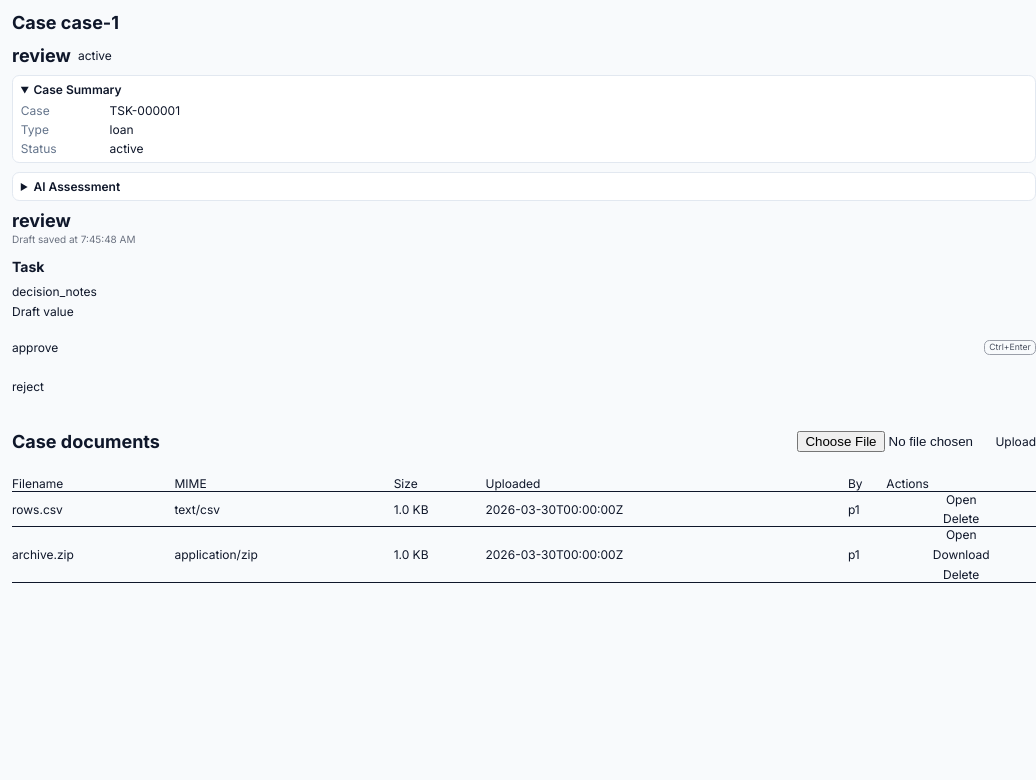
Test: CaseView document panel › renders CSV preview and download button for non-inline types
Click the button "Open" in the row of "rows.csv": (961, 499) [886, 492, 1035, 507]
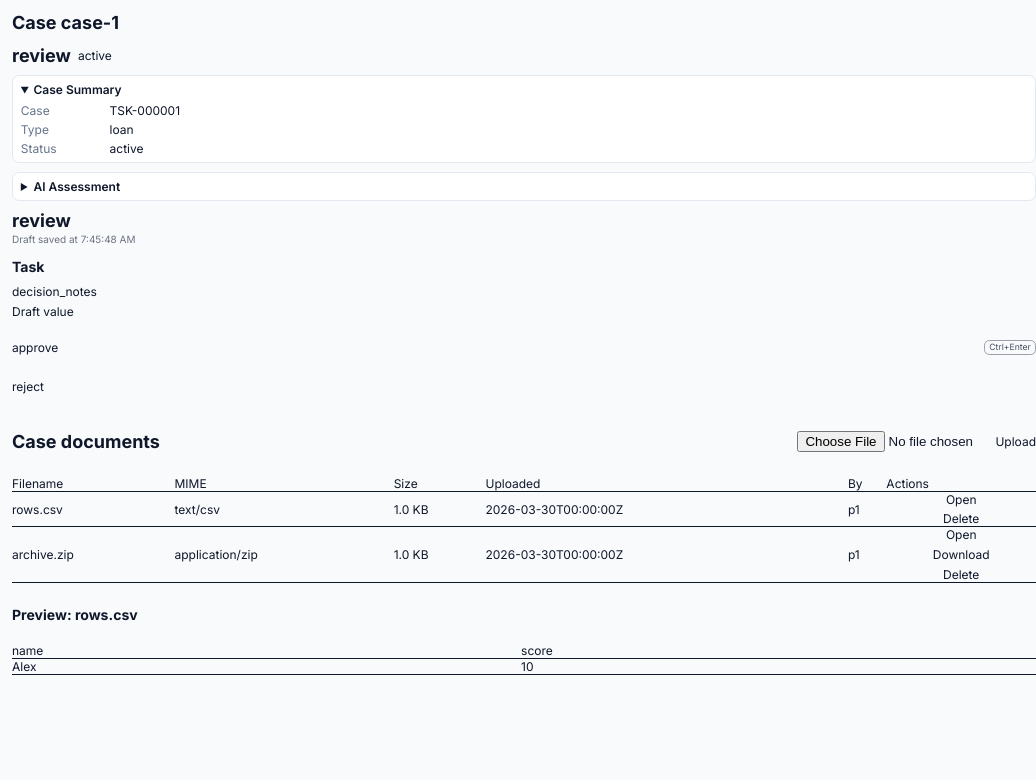
Expected: the text "archive.zip" is shown, [12, 527, 174, 583]
Expected: the element with test id "csv-preview" is shown, [12, 643, 1035, 675]
